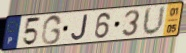3: (121, 9, 141, 38)
5: (22, 16, 42, 47)
6: (94, 11, 113, 40)
G: (40, 14, 64, 46)
J: (70, 13, 89, 41)
U: (141, 4, 168, 37)
